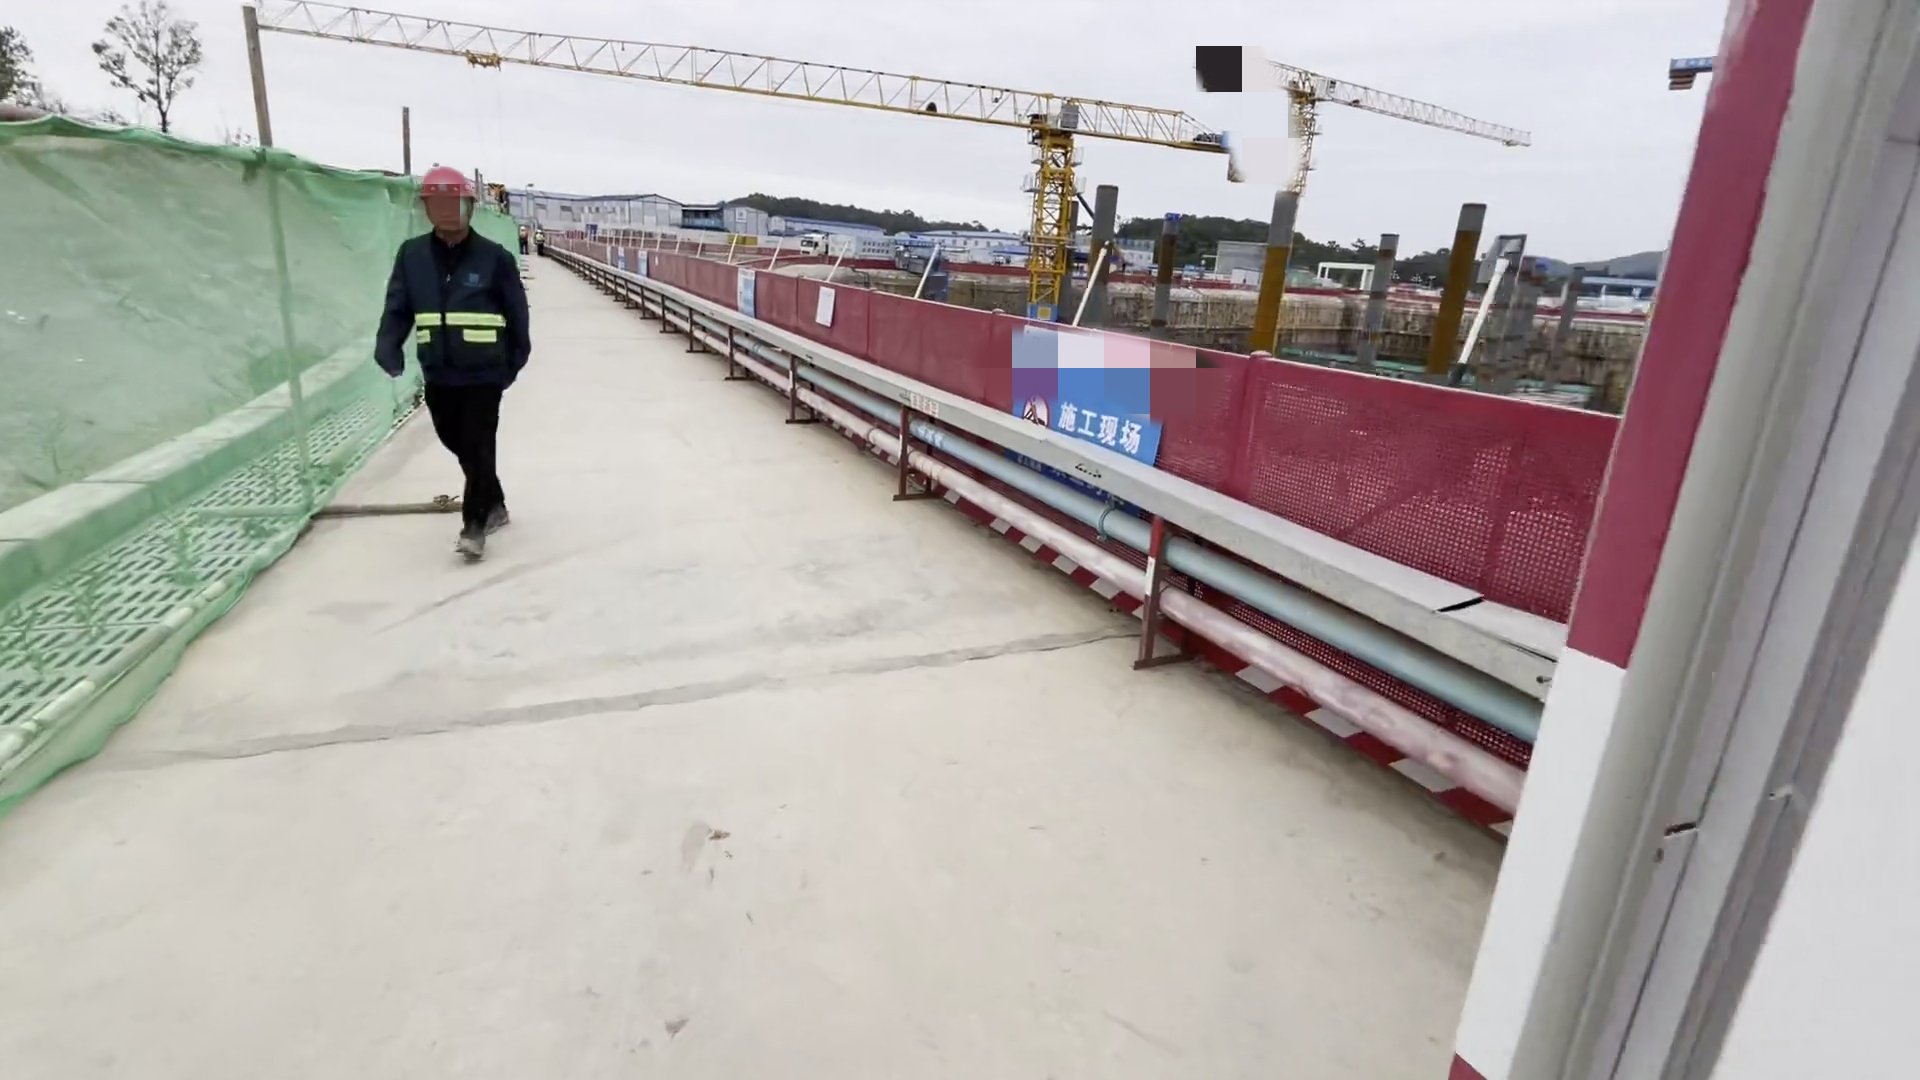fence: (524, 173, 1556, 656)
helmet: (413, 165, 487, 210)
person: (374, 151, 530, 572), (531, 225, 547, 259), (516, 220, 528, 259)
slogan: (998, 313, 1161, 453), (732, 263, 759, 313)
vest: (400, 229, 511, 389)
